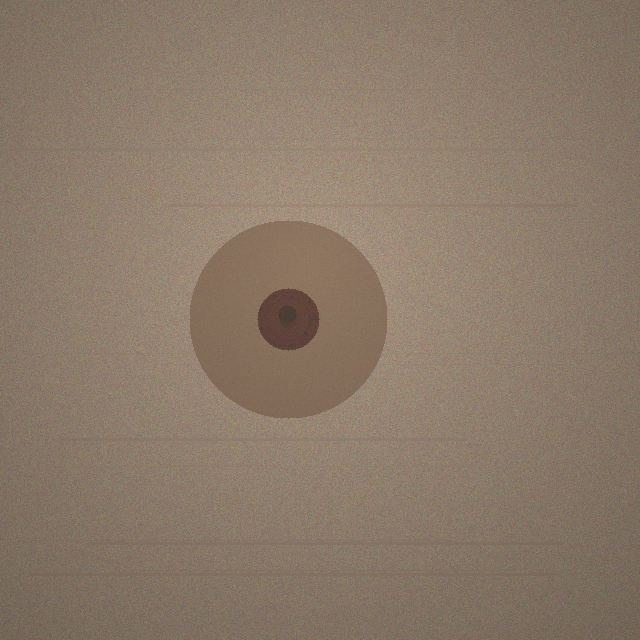cold_weld: (189, 220, 387, 418)
